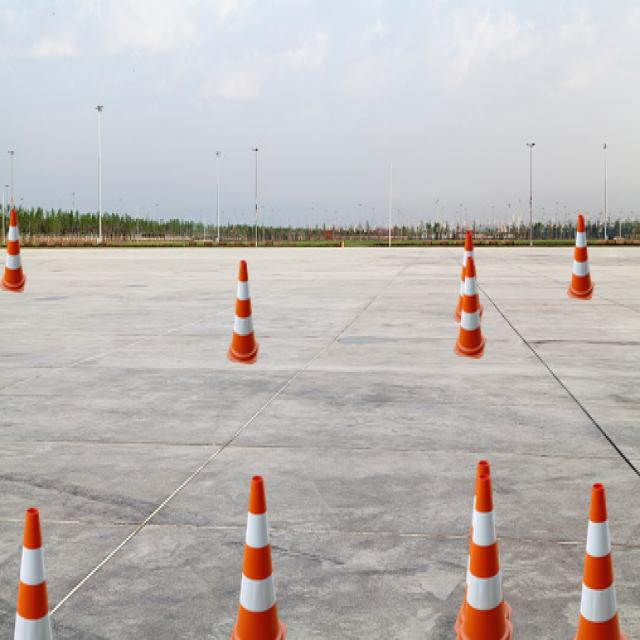large_orange_cone: (453, 460, 512, 640), (454, 474, 514, 640), (227, 476, 287, 640), (567, 483, 629, 640), (0, 508, 64, 640), (227, 260, 260, 364), (454, 256, 486, 358), (454, 232, 484, 325), (567, 215, 595, 300), (0, 209, 26, 292)
